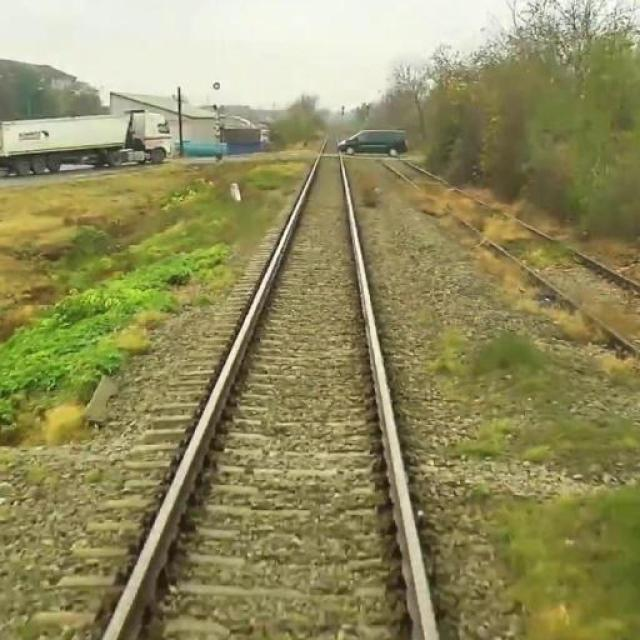vehicle: (0, 100, 174, 180), (334, 124, 416, 160)
